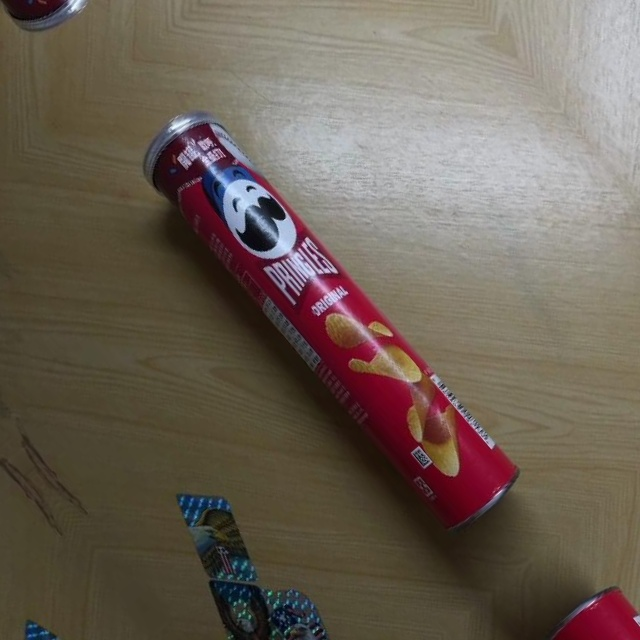Pringles: (128, 93, 526, 541)
